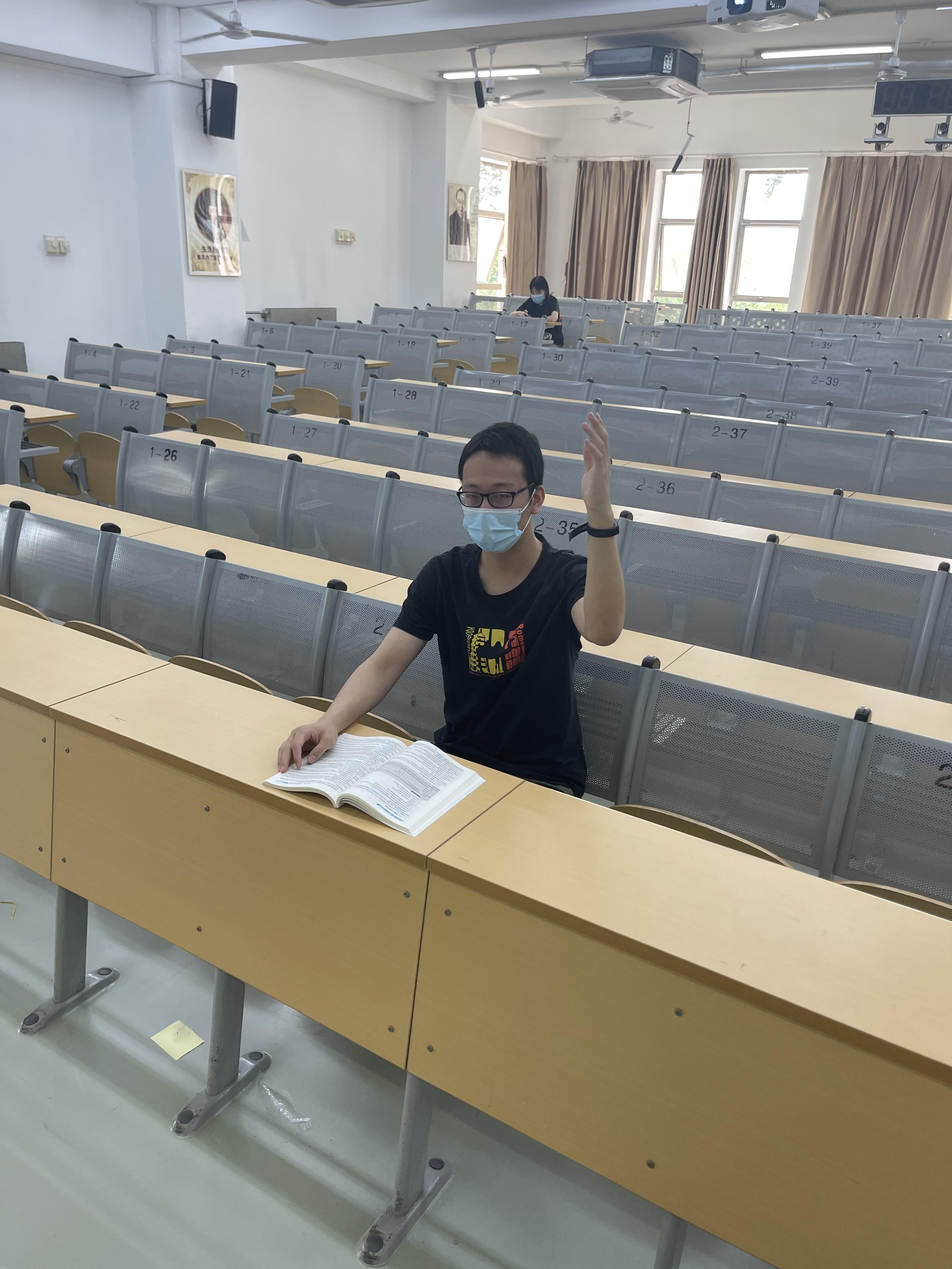study: (273, 403, 622, 839)
